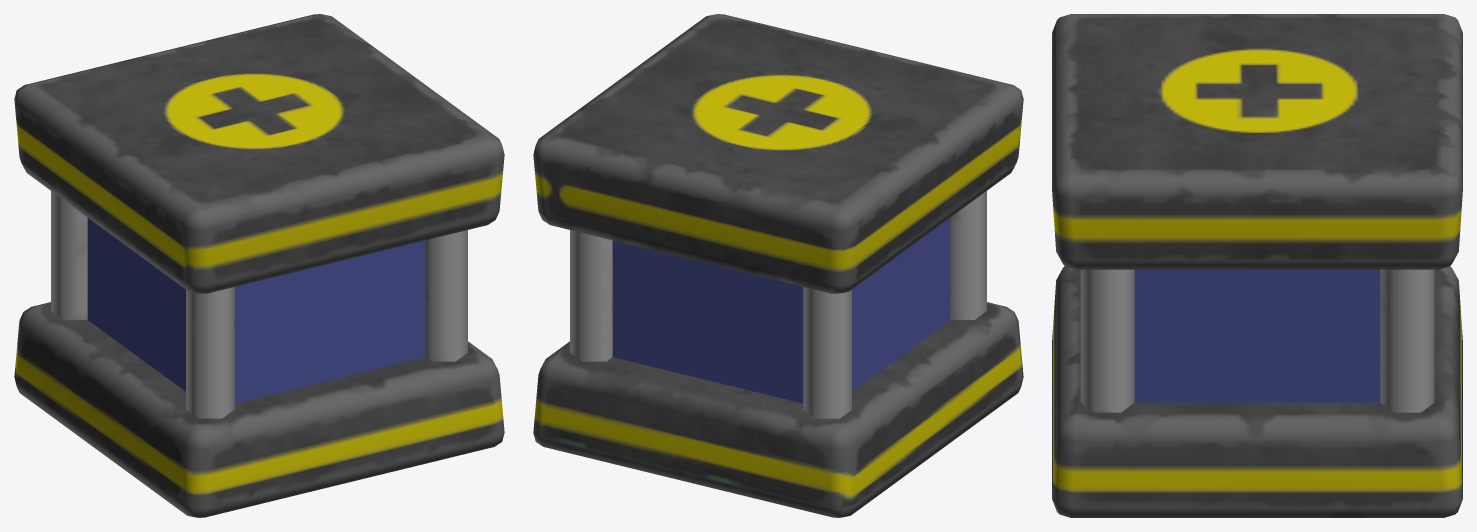
The model's file is Pickup_Blue.fbx.
The picture shows the model from 3 angles, left to right: view 1: azimuth 30°, elevation 25°; view 2: azimuth 150°, elevation 25°; view 3: azimuth 270°, elevation 25°; orthographic projection. The views are drawn at different scales.
Visible parts, largest first — view 1: PickupA; view 2: PickupA; view 3: PickupA.
Part boxes in pixels (x1,y1,x2,y2): PickupA: [14, 14, 504, 517]; PickupA: [533, 14, 1023, 517]; PickupA: [1052, 14, 1462, 517].
Bounding box in the file's own units: 56.04 × 56.04 × 51.91.
1 material, 1 textured.
